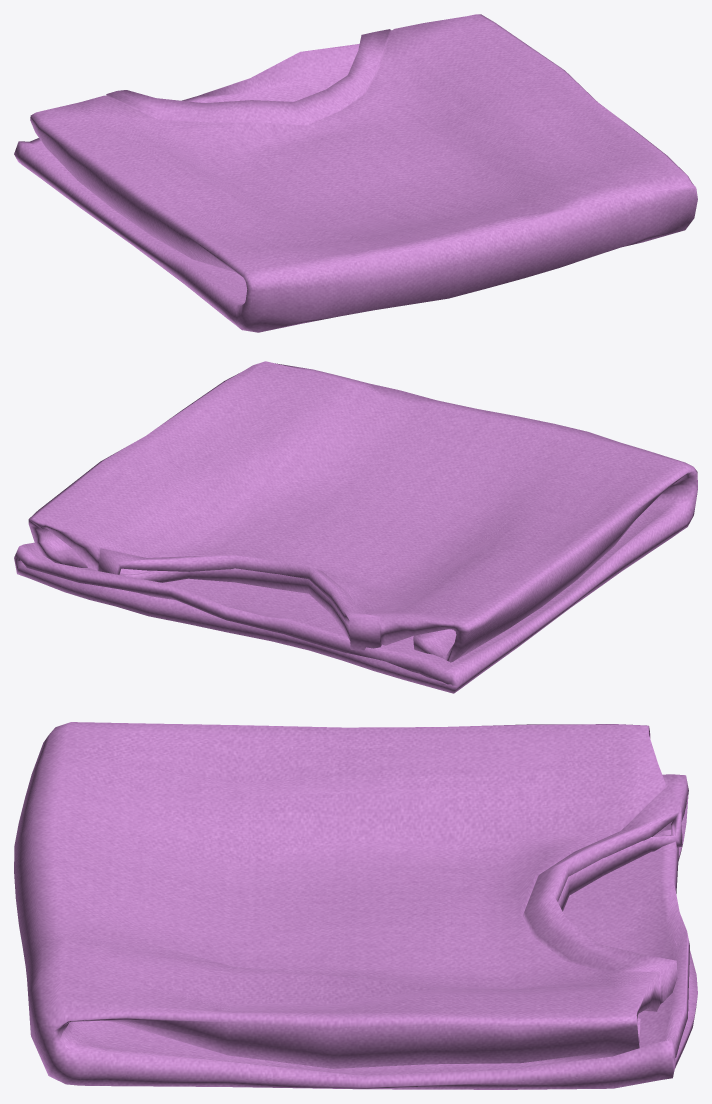
The model's file is Shirt 1.fbx.
3 renders of one model, top to bottom at view 1: azimuth 30°, elevation 25°; view 2: azimuth 150°, elevation 25°; view 3: azimuth 270°, elevation 25°, orthographic. The views are drawn at different scales.
Visible parts, largest first — view 1: shirt 1; view 2: shirt 1; view 3: shirt 1.
Boxes of the visible parts, box(x1,y1,x2,y2) form: shirt 1: box(14, 14, 697, 332); shirt 1: box(14, 361, 697, 693); shirt 1: box(14, 722, 697, 1089).
Bounding box in the file's own units: 33.28 × 4.2 × 32.2.
Materials: 1 (1 with a texture image).
